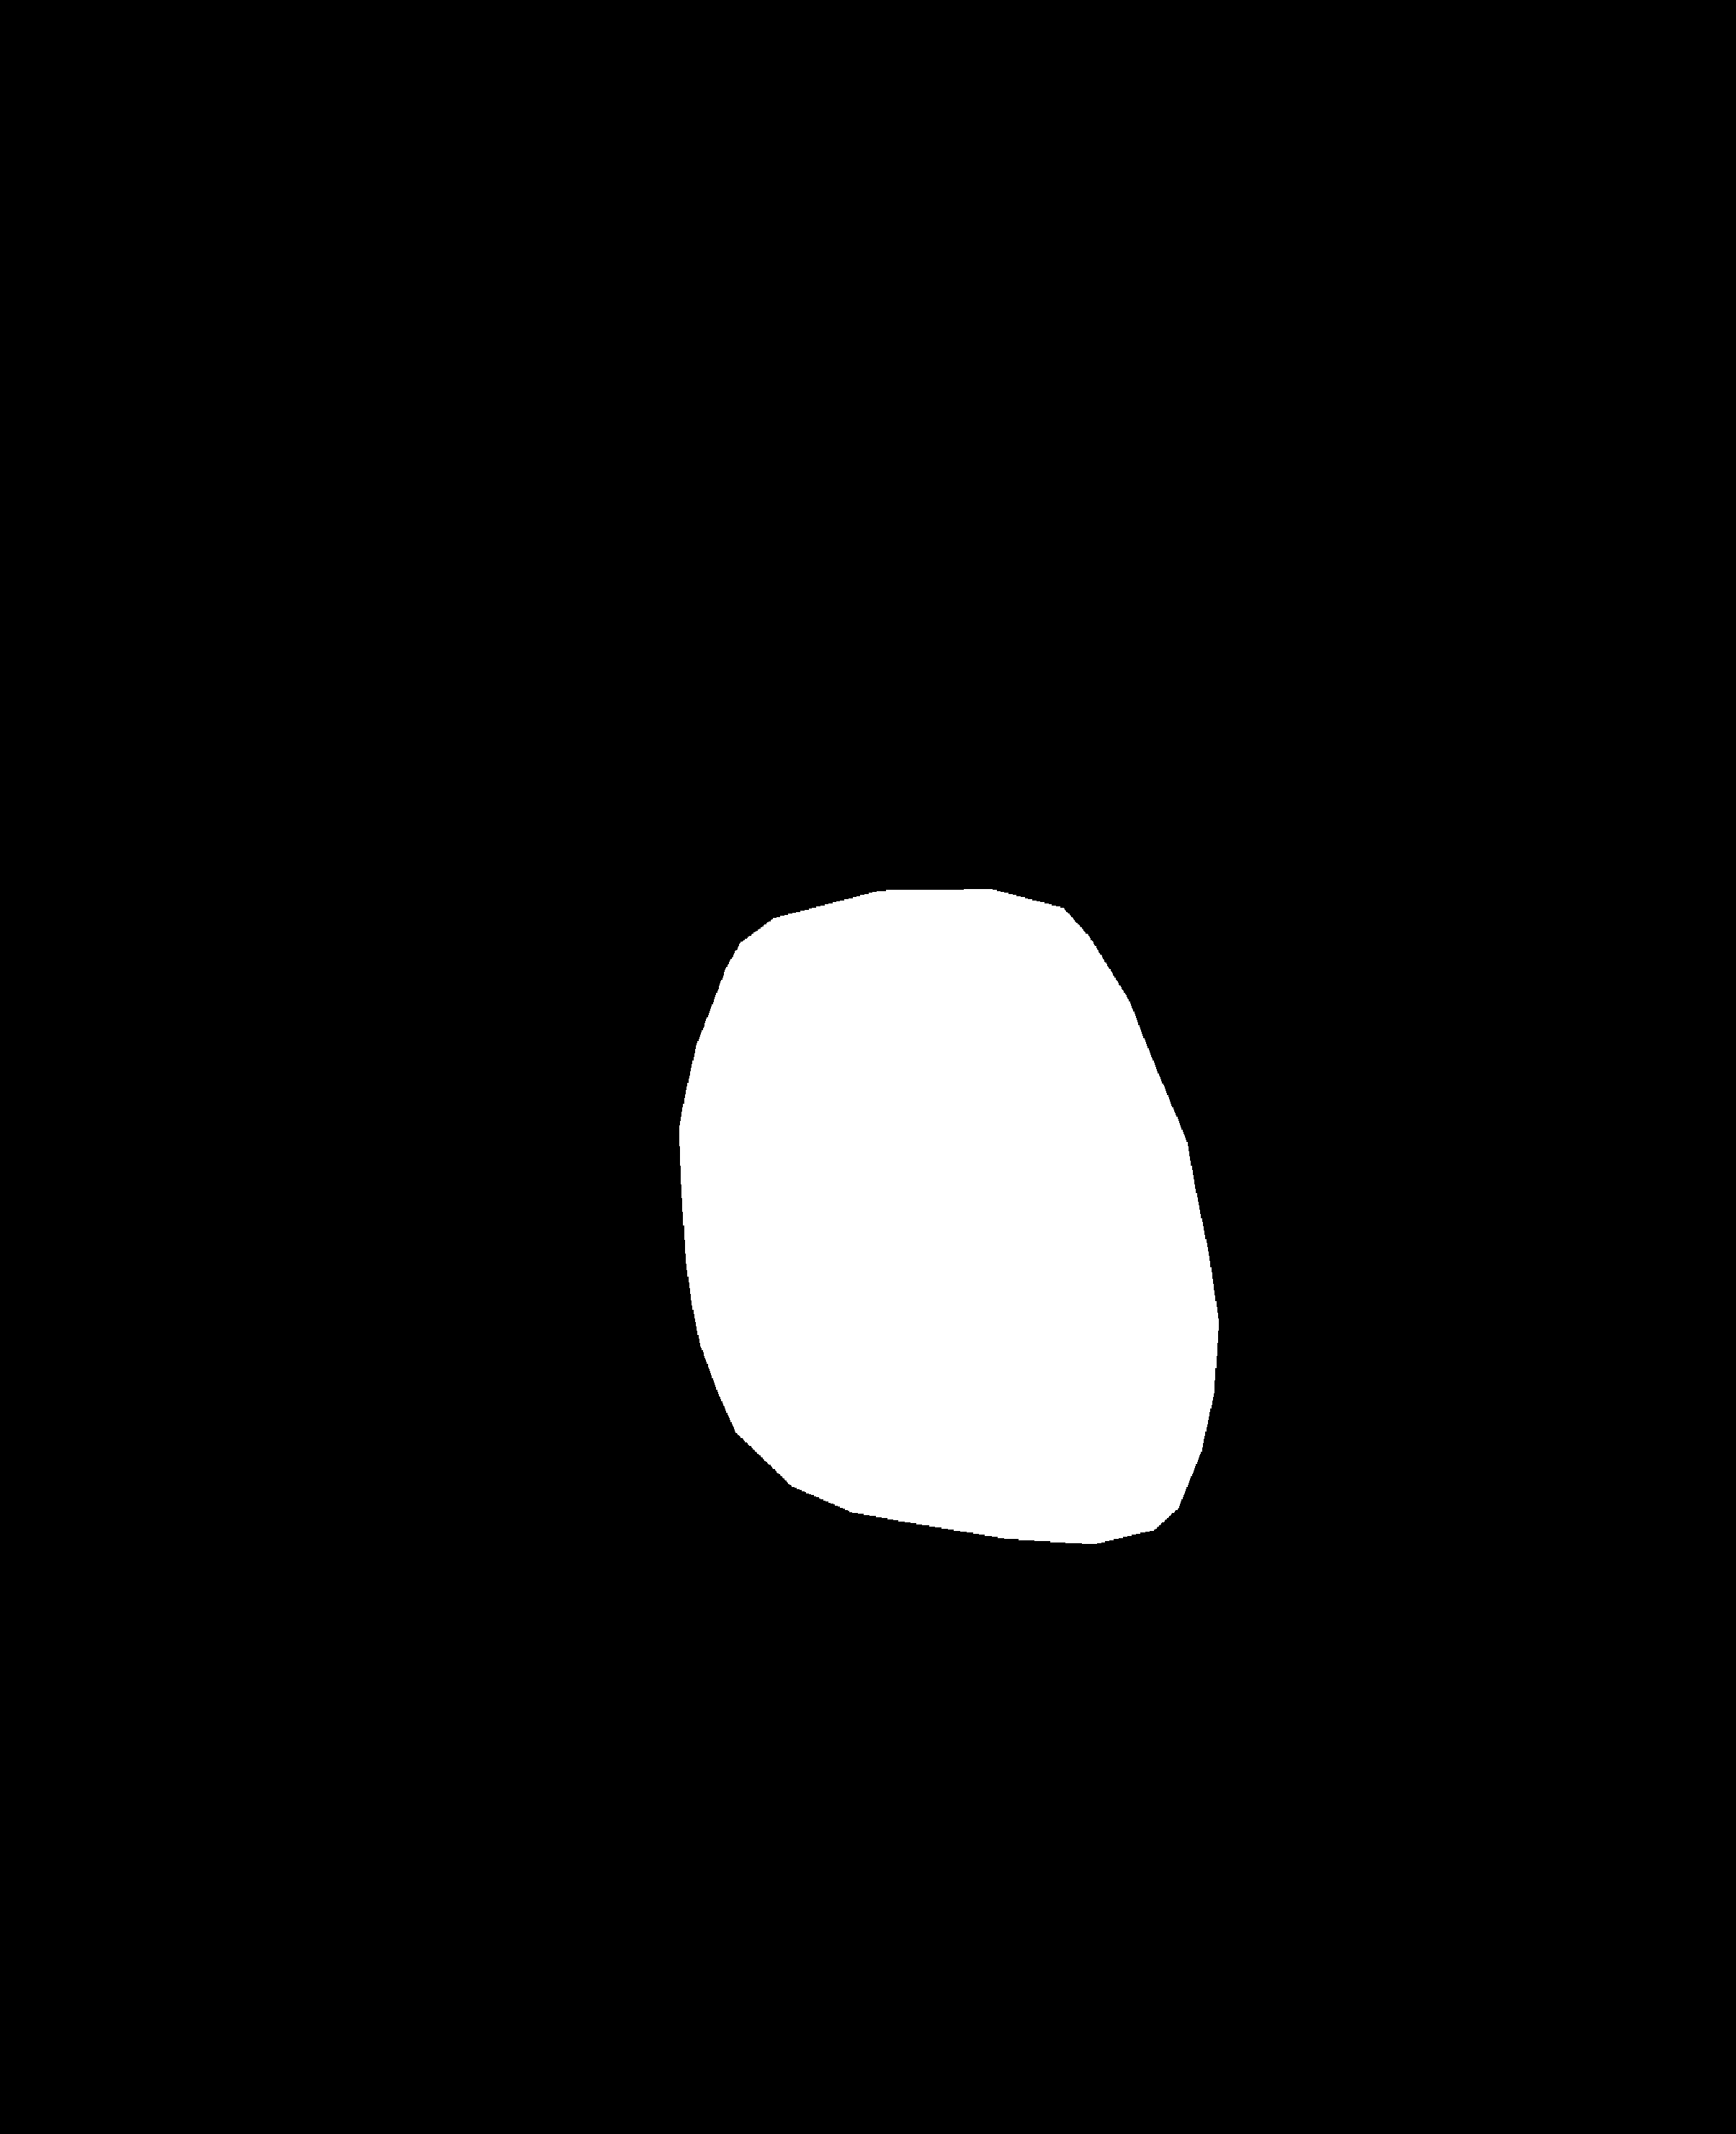heart: (675, 951, 1217, 1583)
left_lung: (174, 301, 788, 1828)
right_lung: (928, 248, 1566, 1783)
